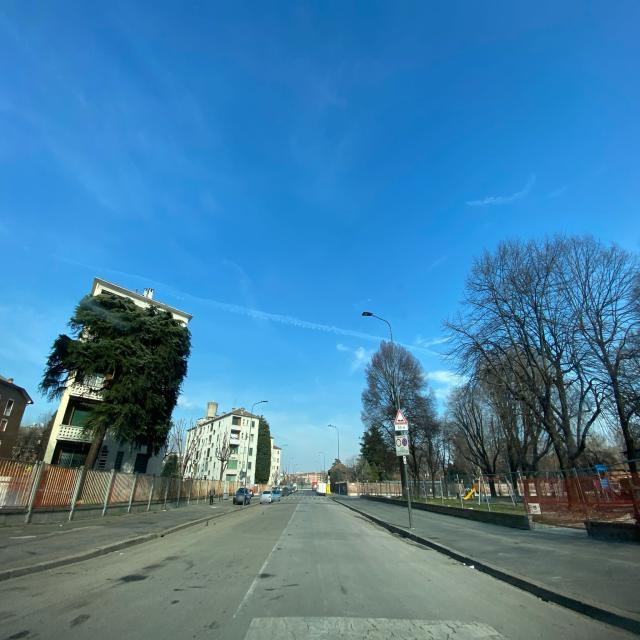forb_stopping: (402, 440, 406, 446)
